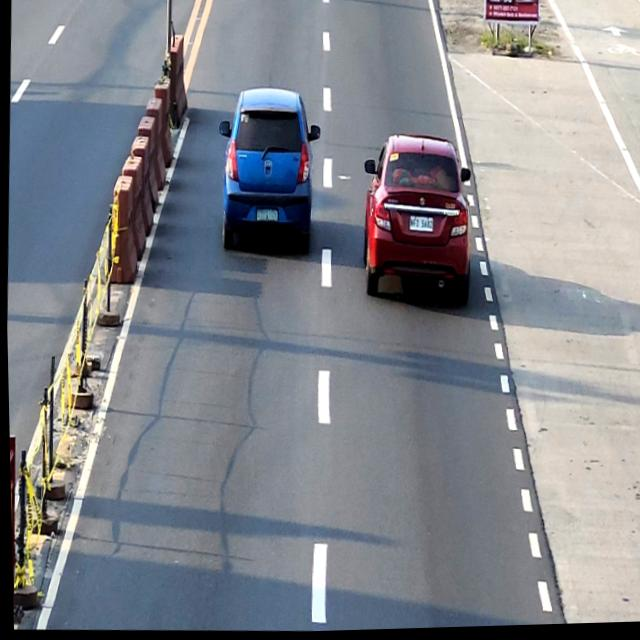Car: (356, 133, 474, 311), (213, 88, 323, 257)
License-Plate: (408, 218, 432, 235), (255, 211, 277, 224)
